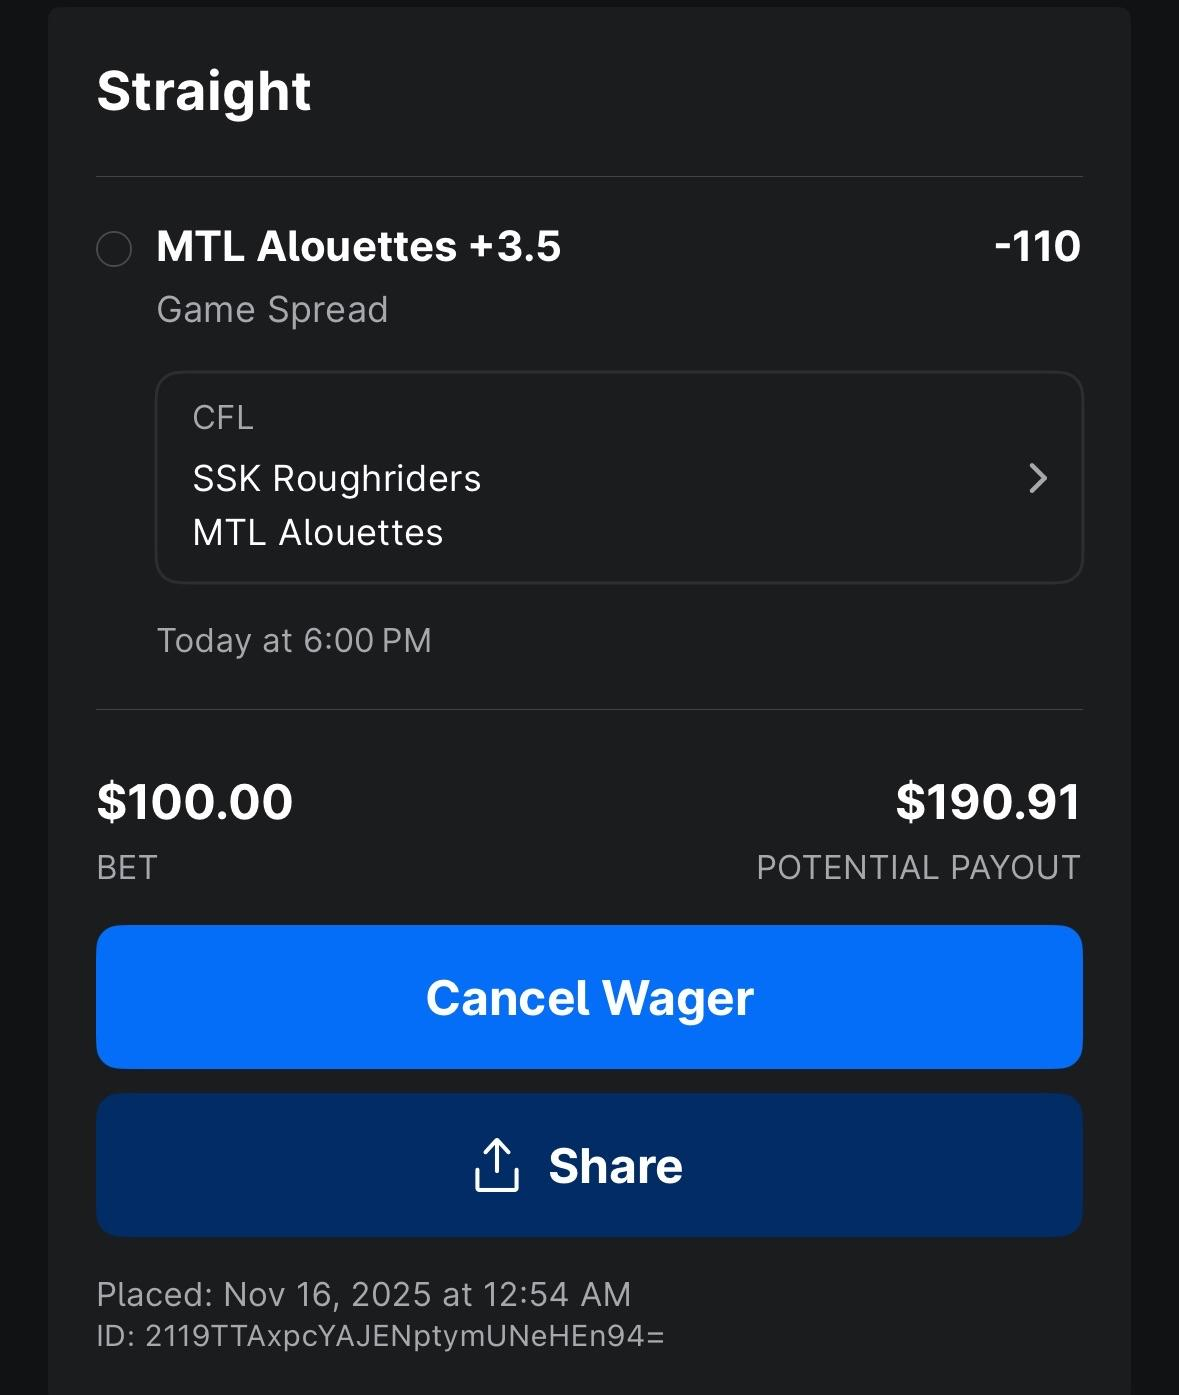game: (187, 455, 488, 560)
odds: (972, 208, 1100, 278)
payout: (880, 772, 1095, 835)
wager: (90, 763, 302, 840)
